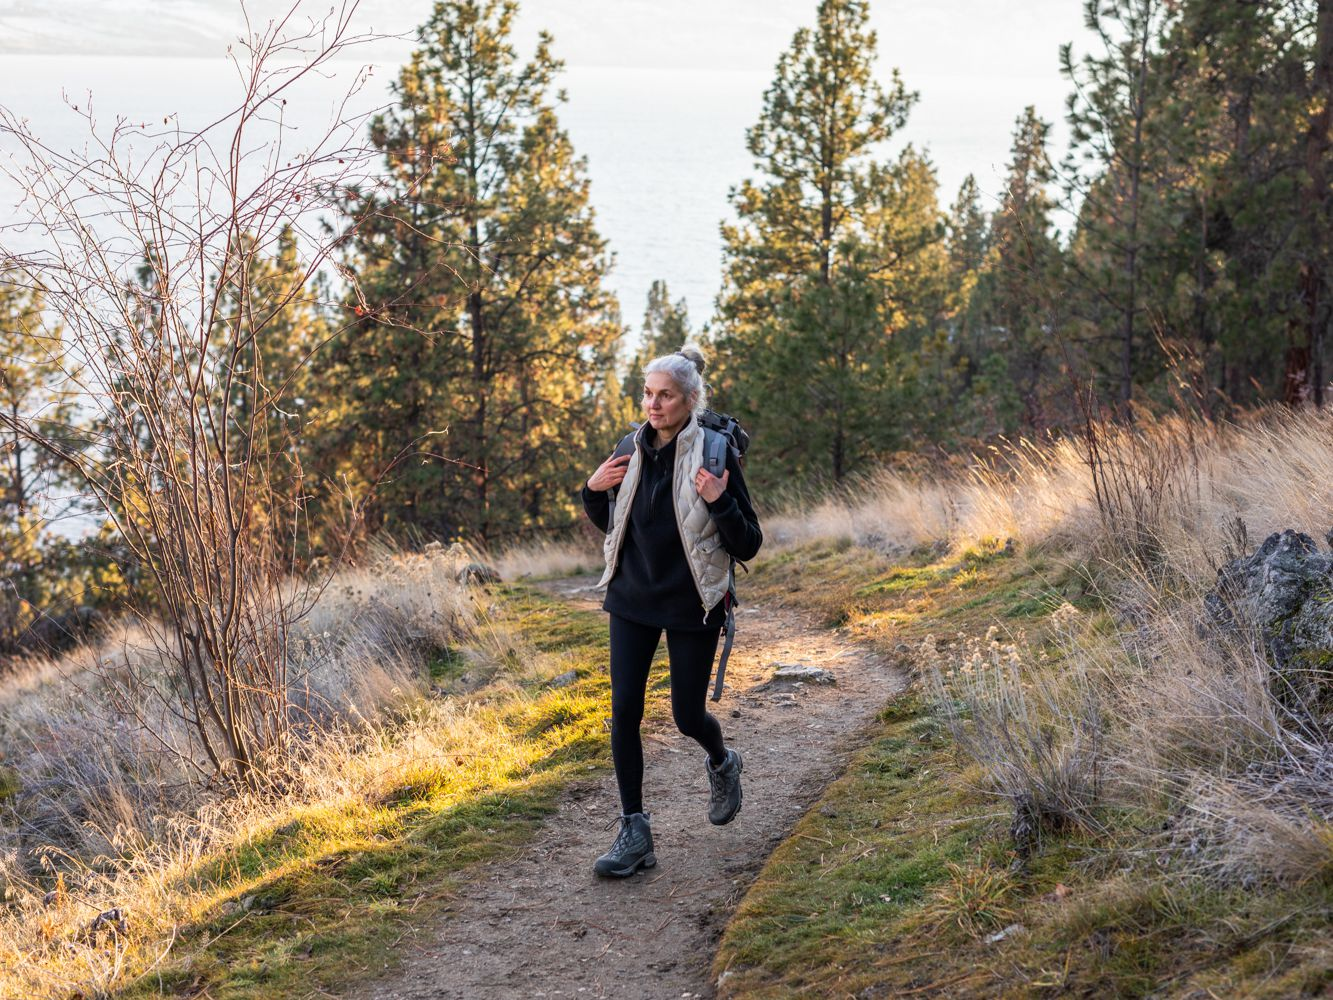person: (556, 328, 777, 880)
